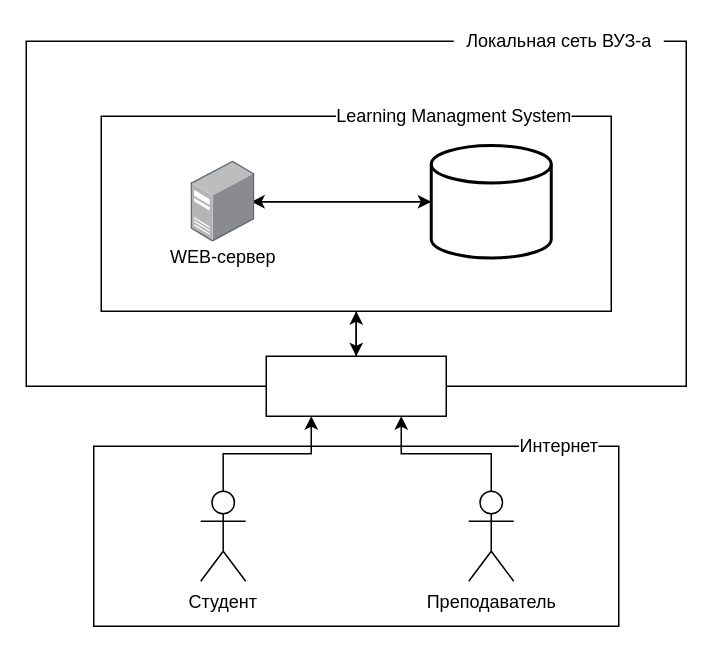
Image size: 713x653. Some labels were removed from this diagram. The shapes that lost their labels are listed below. From the top down, each one's centre as x and y in pixels, then its label:
the point at 490,201: База данных
the point at 355,385: Cайт ВУЗ-а
